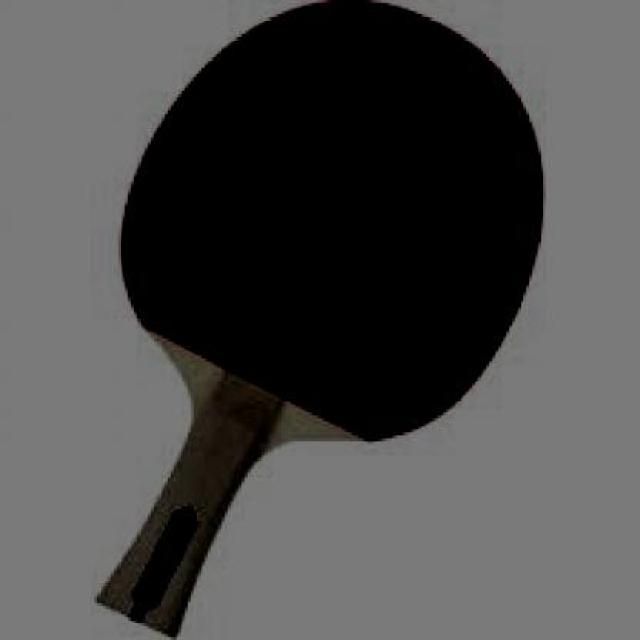table_tennis_racket: (95, 2, 546, 640)
